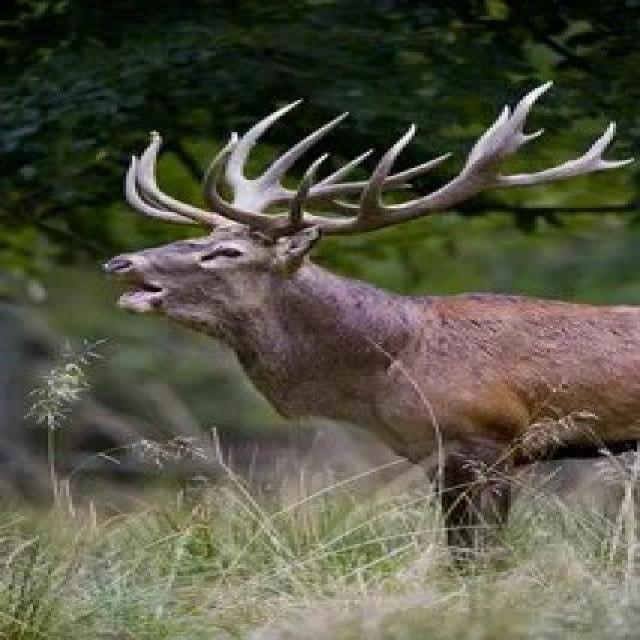deer: (78, 117, 640, 560)
